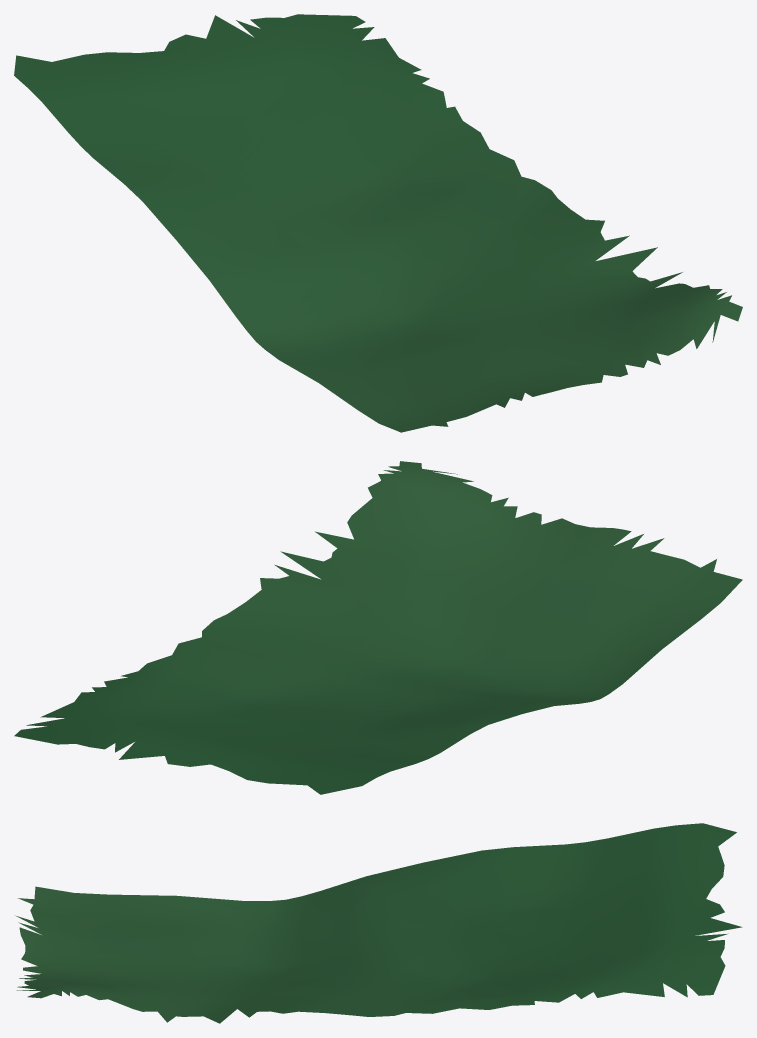
The model's file is payo_land_x4_y6_lod1.glb.
3 renders of one model, top to bottom at view 1: azimuth 30°, elevation 25°; view 2: azimuth 150°, elevation 25°; view 3: azimuth 270°, elevation 25°, orthographic. The views are drawn at different scales.
Parts seen in each view (by area): view 1: payo_land_x4_y6; view 2: payo_land_x4_y6; view 3: payo_land_x4_y6.
Part boxes in pixels (bbox=[...]): payo_land_x4_y6: bbox=[14, 14, 742, 432]; payo_land_x4_y6: bbox=[14, 461, 742, 794]; payo_land_x4_y6: bbox=[15, 823, 742, 1023].
Bounding box in the file's own units: 134 × 34.59 × 269.
